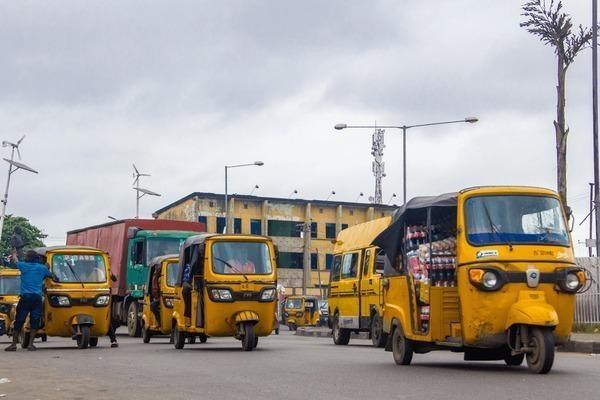keke: (379, 180, 578, 378), (184, 232, 285, 358), (12, 240, 110, 354)
